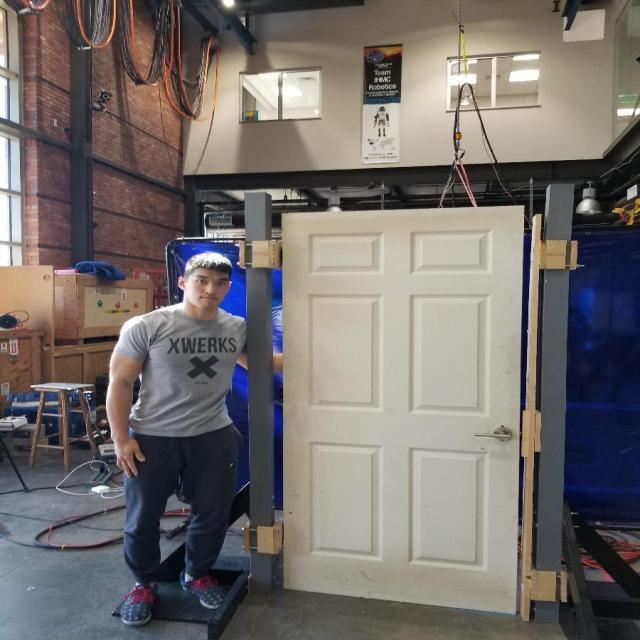door: (280, 203, 526, 618), (471, 420, 517, 446)
